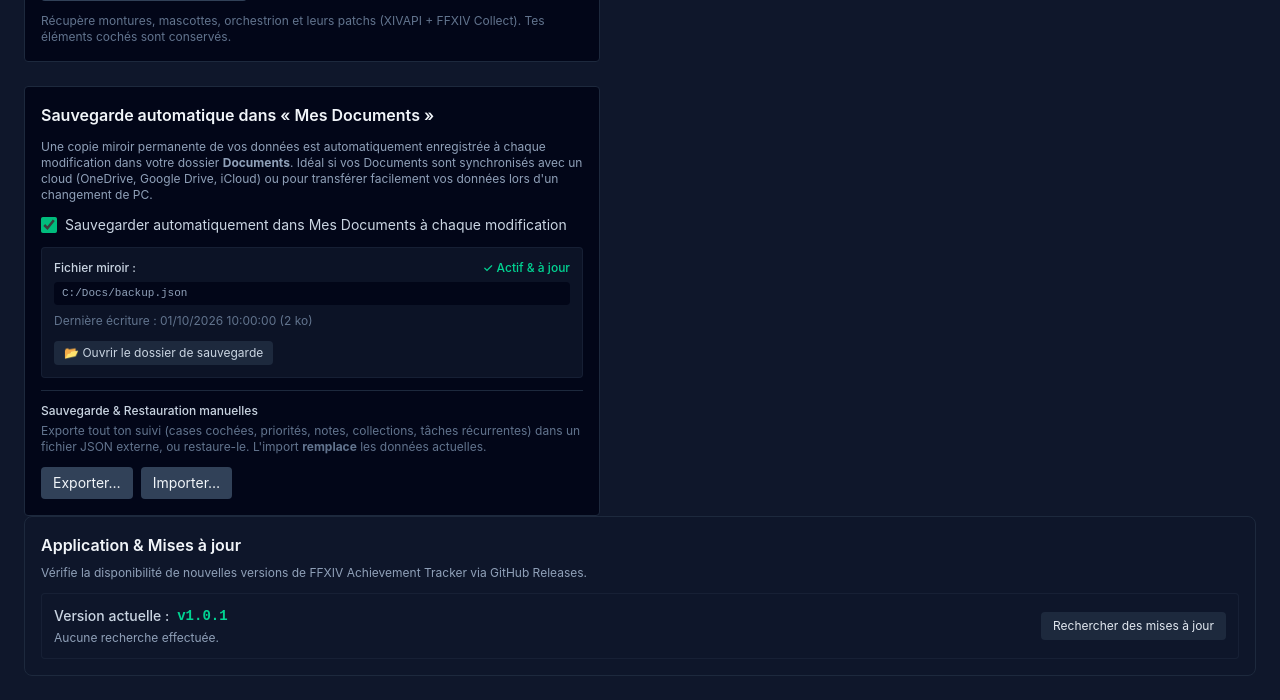
Test: UpdatesSection › shows the version and checks for updates
(page scrolled)
Expected: the text "v1.0.1" is shown, [177,606,228,626]
Expected: the text "Aucune recherche effectuée." is shown, [54,630,228,646]
Click the button "Rechercher des mises à jour".
click(1134, 626)  # box [1041,612,1226,640]
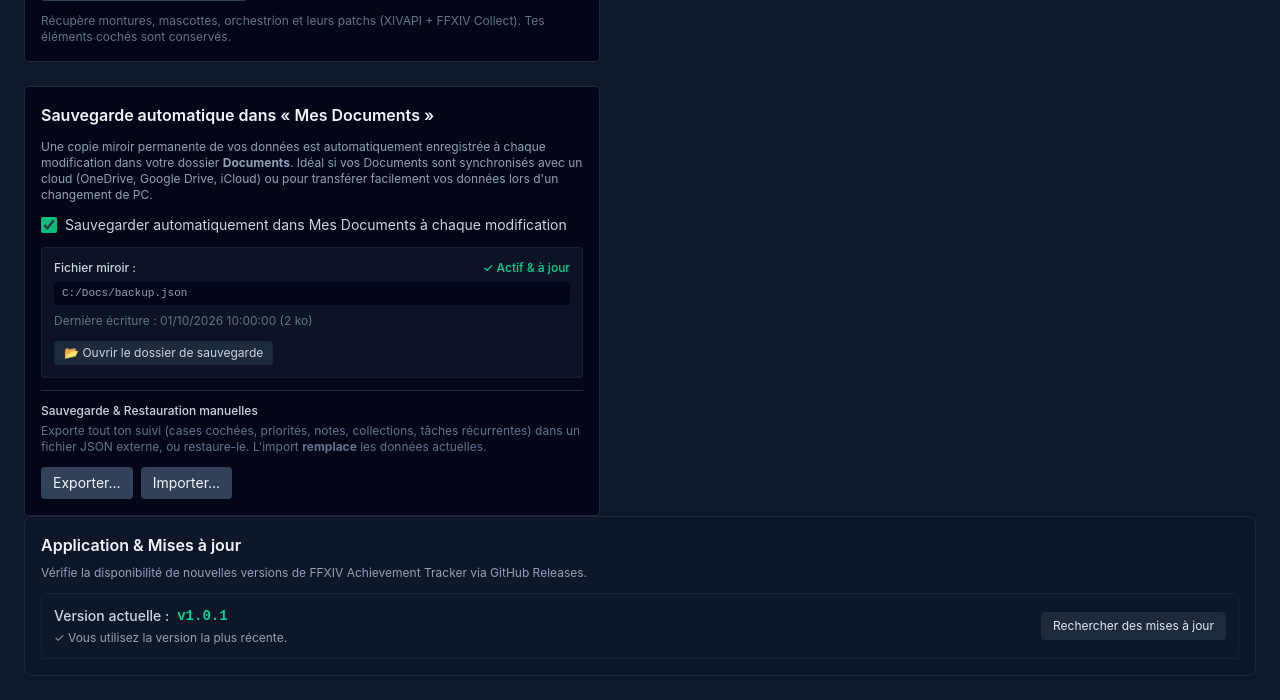
Expected: the text "✓ Vous utilisez la version la plus récente." is shown, [54,630,287,646]
